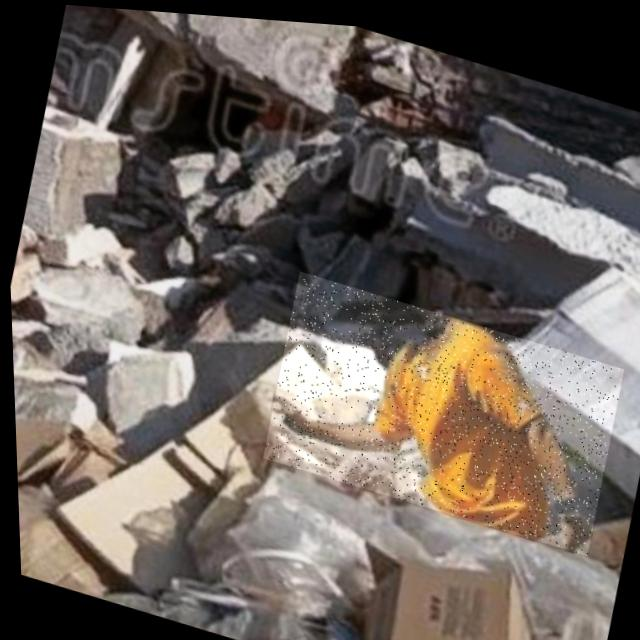Person in Rubble: (254, 264, 626, 549)
